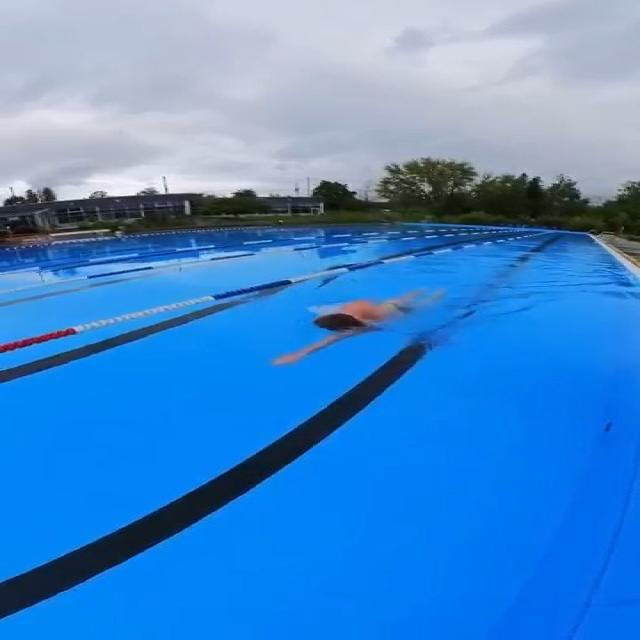Swimming: (255, 279, 450, 372)
